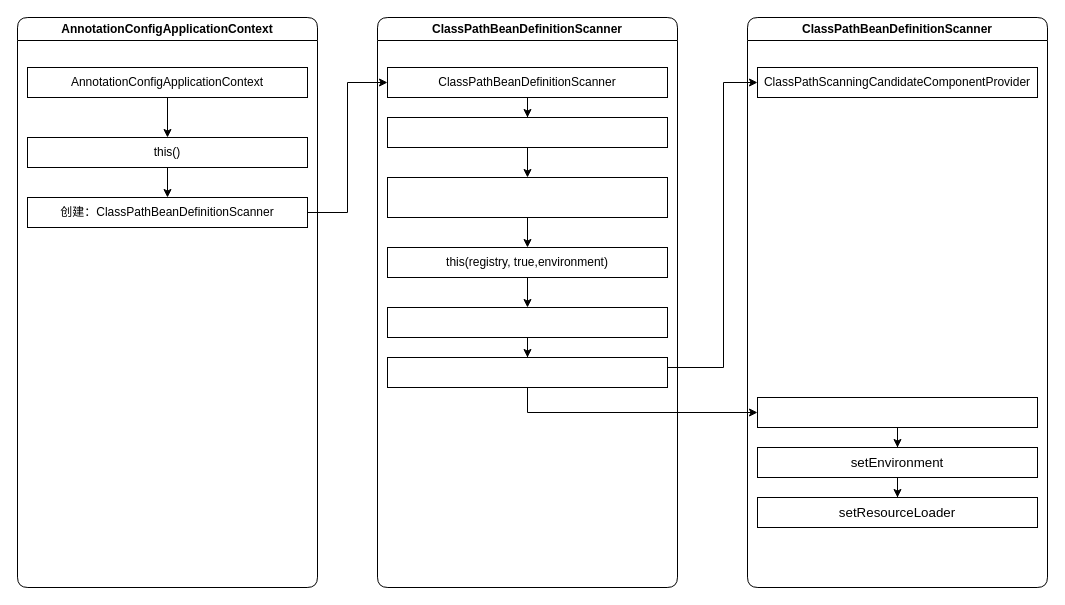
Some shapes in this 1065 by 605 pixel diagram are drawn without their labels. The shapes that lost their labels are listed below. From the top down, each one's box as (x1, y1, x2, y2) in pixels, then its label:
(386, 116, 668, 148): this(registry, true)
(386, 176, 668, 218): getOrCreateEnvironment 创建或者获取，之前已经创建过这里直接获取
(386, 306, 668, 338): this(registry, true,environment, registry )
(386, 356, 668, 388): super
(756, 396, 1038, 428): registerDefaultFilters
